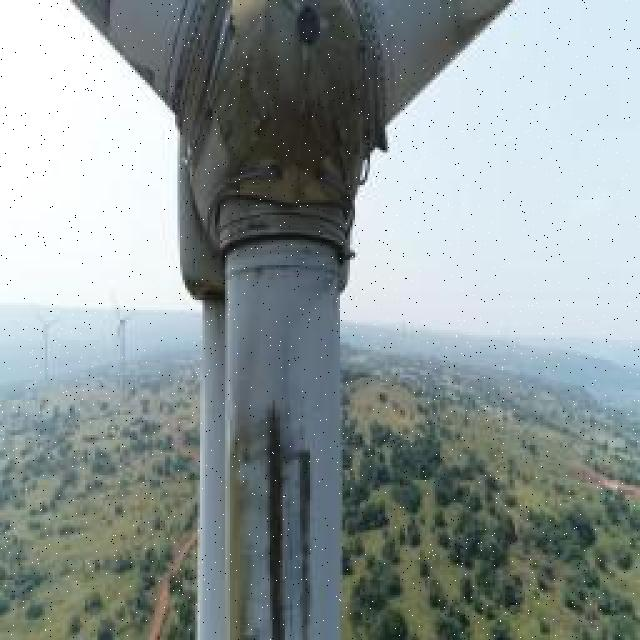Dirt: (217, 405, 324, 640)
Oil LEAKAGE: (261, 399, 310, 640)
